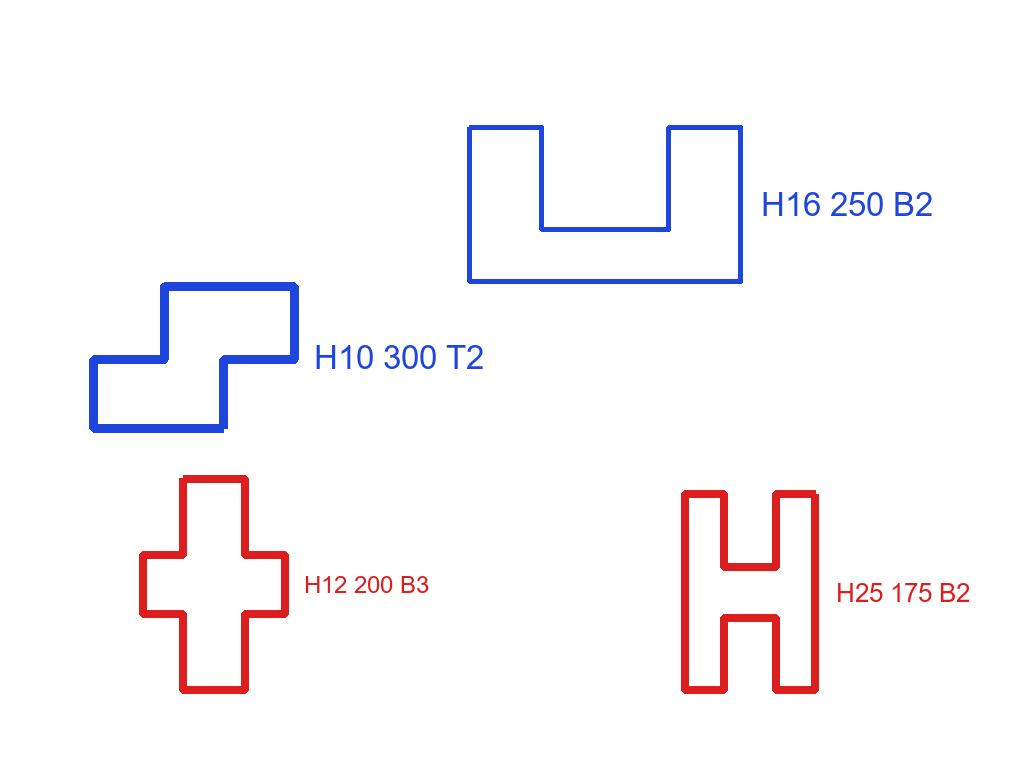shape: (465, 123, 745, 286), (138, 473, 290, 696), (87, 280, 301, 435), (679, 489, 822, 696)
text: (759, 190, 935, 218), (312, 343, 486, 371), (834, 581, 972, 604), (302, 574, 431, 595)
